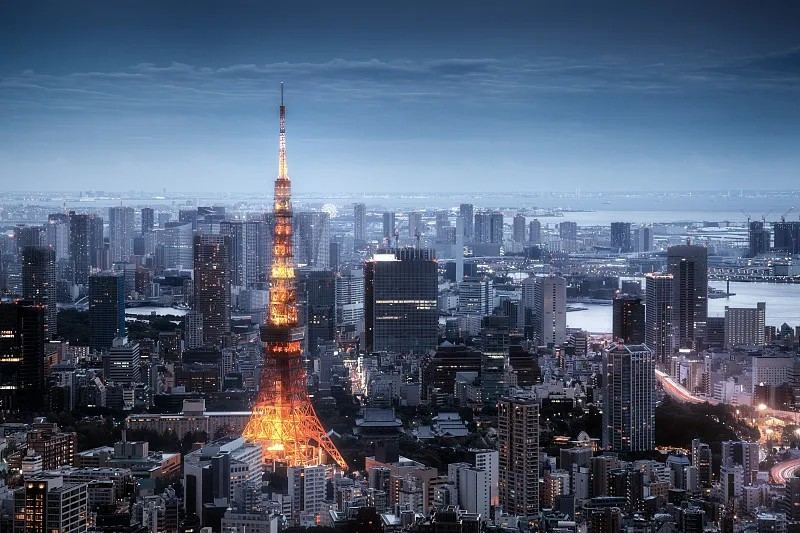Tokyo: (238, 79, 351, 471)
